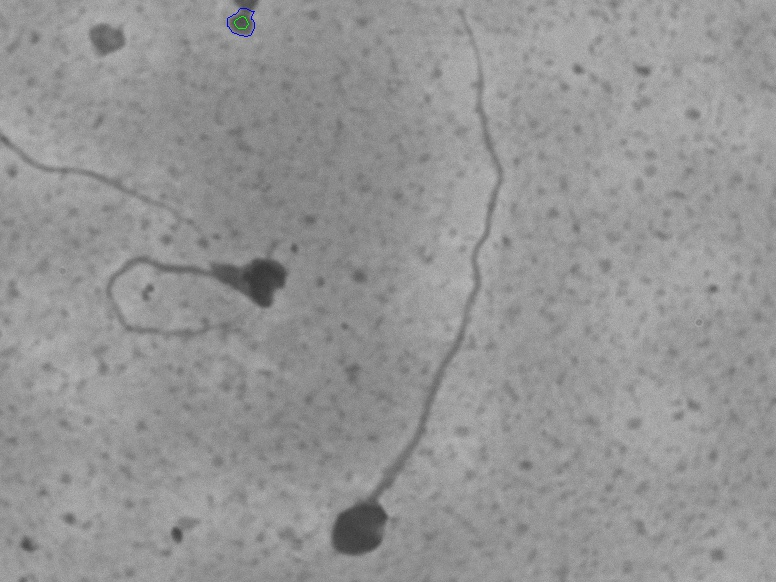Abnormal: (318, 7, 527, 558), (77, 240, 304, 351)
